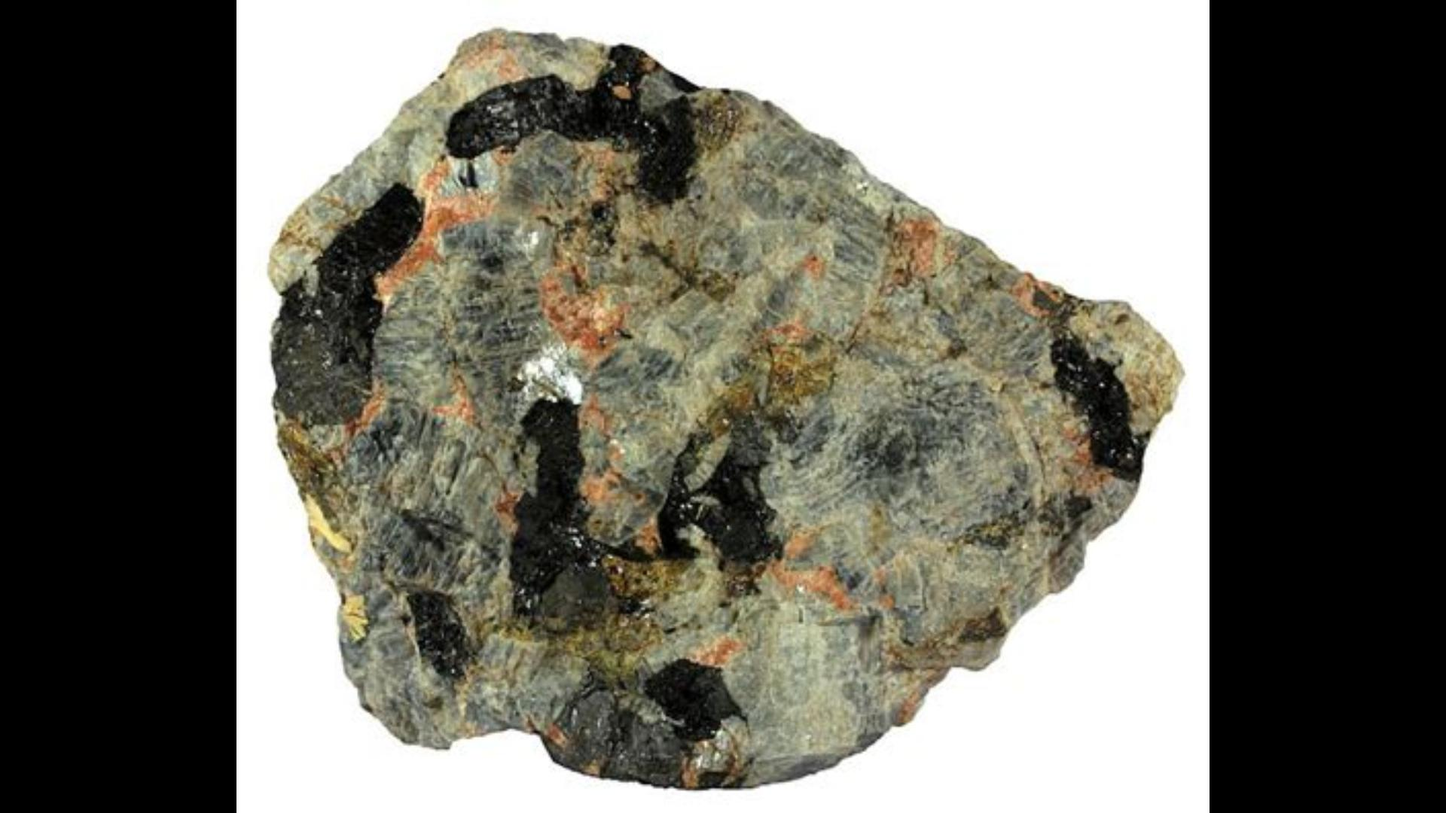rock: (269, 39, 1169, 784)
